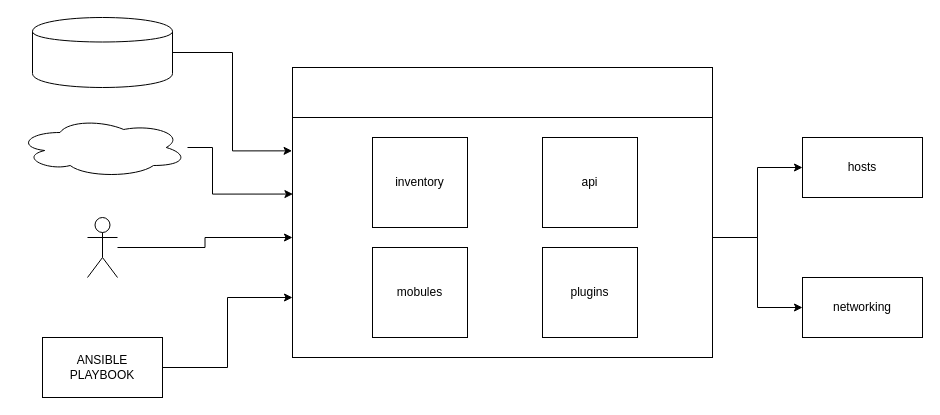
This 940x415 diagram has some shape labels left out. The shapes that lost their labels are listed below. From the top down, each one's box as (x1, y1, x2, y2) in pixels, then its label:
(32, 16, 172, 88): CMDB
(292, 66, 712, 118): ANSIBLE'S AUTOMATION ENGINE
(16, 116, 188, 178): PUBLIC/PRIVATE CLOUD
(86, 216, 118, 278): Actor
